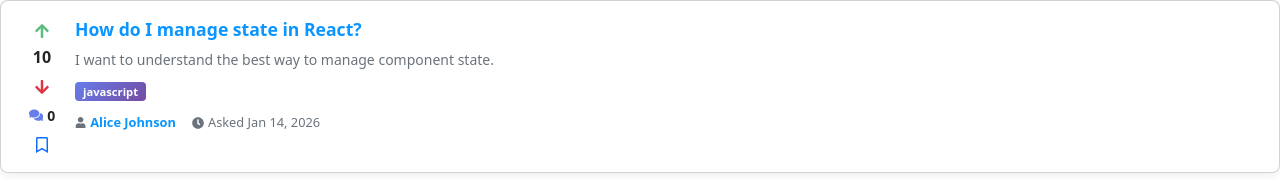
Bookmark Flow Integration Tests (Redux + components) › QuestionCard bookmark icon › toggles to the bookmarked state after clicking the bookmark icon
Click the button named "bookmark question" at [42, 143], box [33,130,51,156]
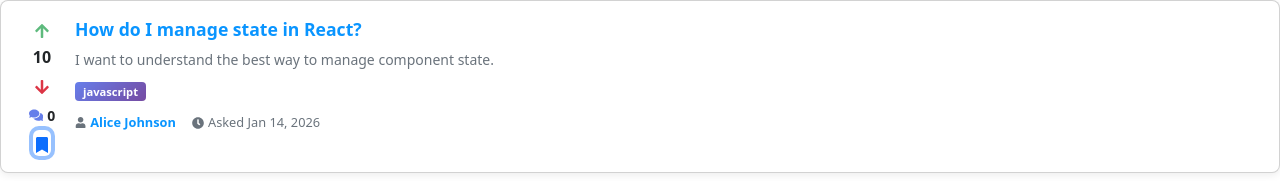
Expected: the button named "remove bookmark" is shown, [33,130,51,156]
